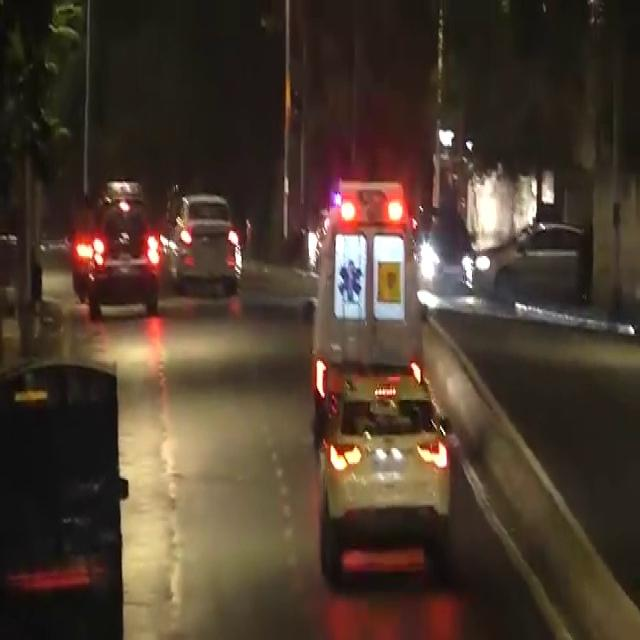ambulance: (320, 172, 437, 396)
